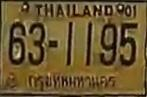1: (86, 22, 92, 66), (66, 21, 72, 65)
3: (27, 22, 45, 64)
5: (119, 22, 137, 65)
6: (8, 21, 25, 64)
9: (99, 22, 116, 65)
BKK: (27, 69, 119, 92)
